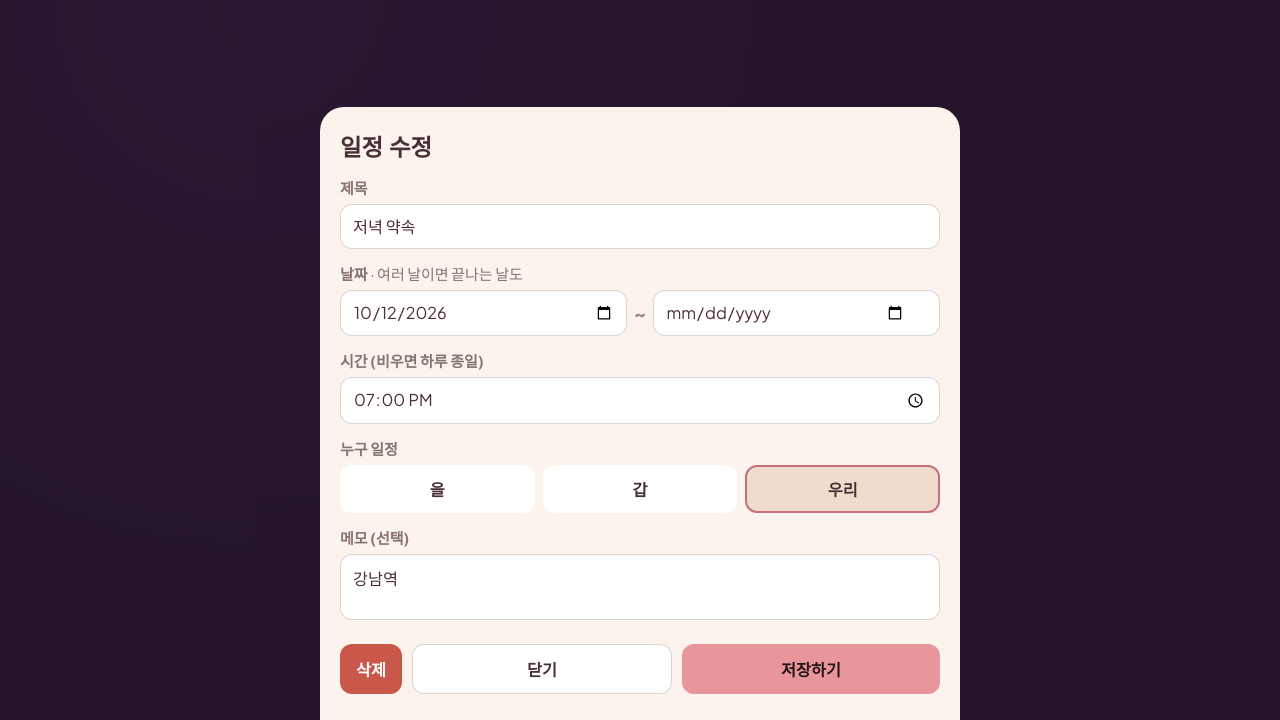
Test case: EventFormModal › stays open with a message when deleting fails
This screenshot has width=1280, height=720.
Click the button "삭제" at coordinates (371, 669), box [340,644,402,694]
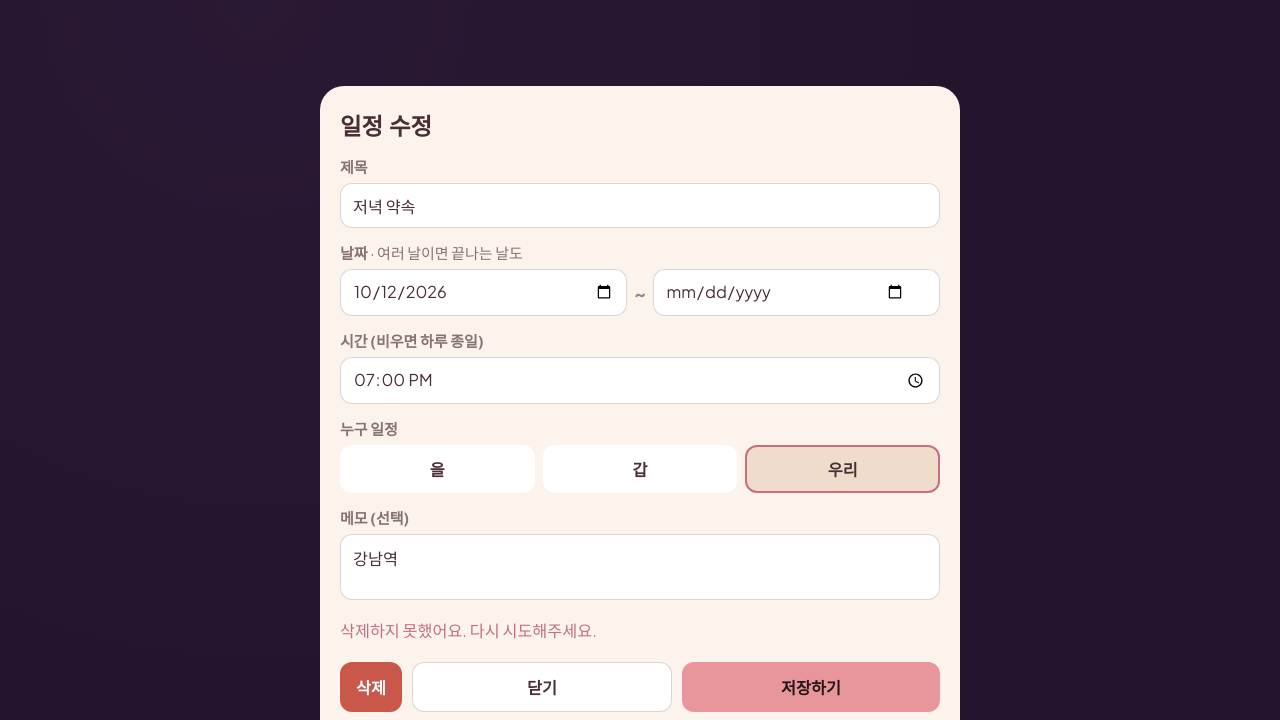
Check: the text "삭제하지 못했어요. 다시 시도해주세요." is shown, box [340,620,597,641]
